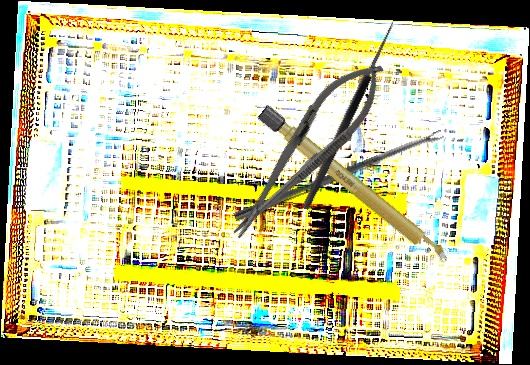Hook Surgical: (291, 14, 398, 212)
Needle Holder: (213, 45, 400, 254)
Scalpel Handle: (256, 104, 453, 268)
Surgical Spoon: (233, 129, 445, 223)
